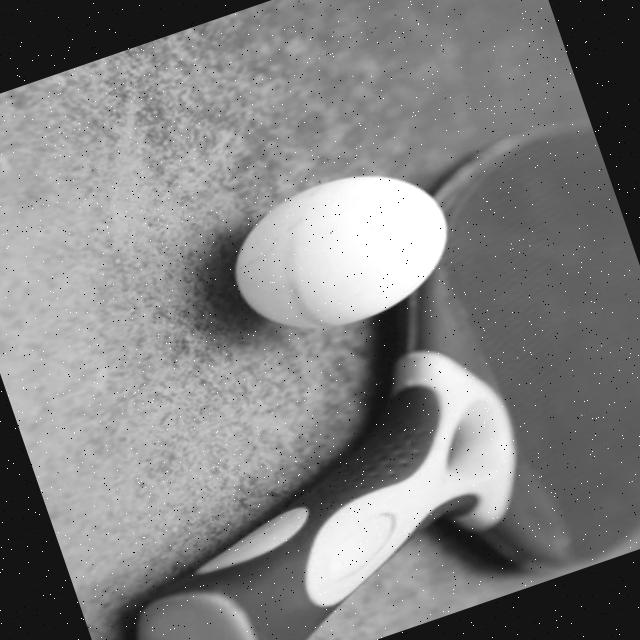ping-pong-ball: (205, 140, 480, 364)
